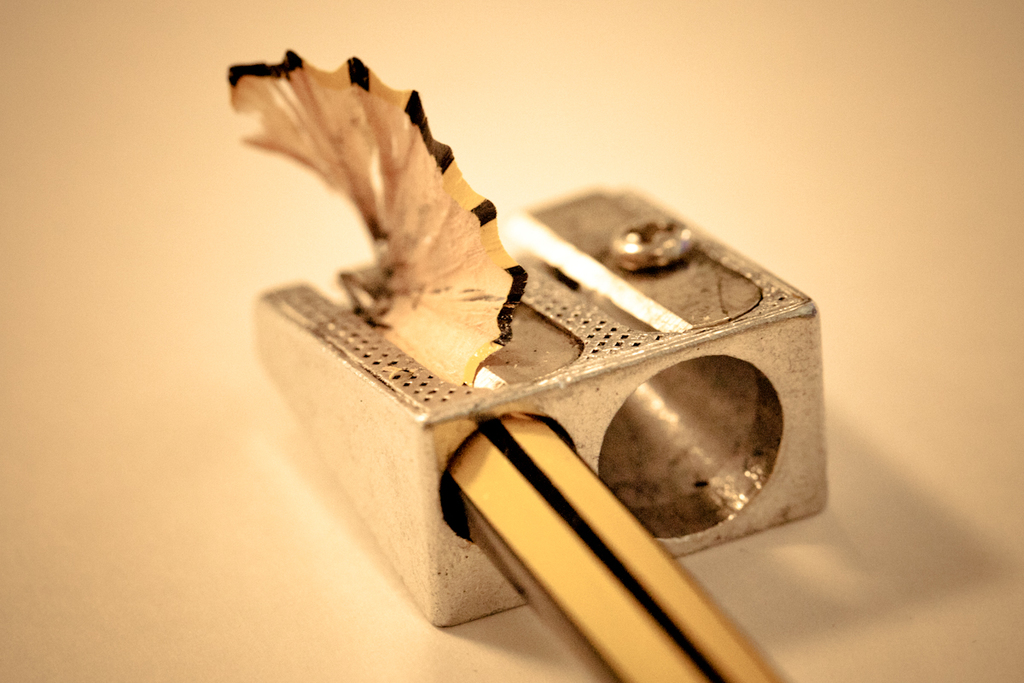sharpener: (253, 180, 829, 633)
